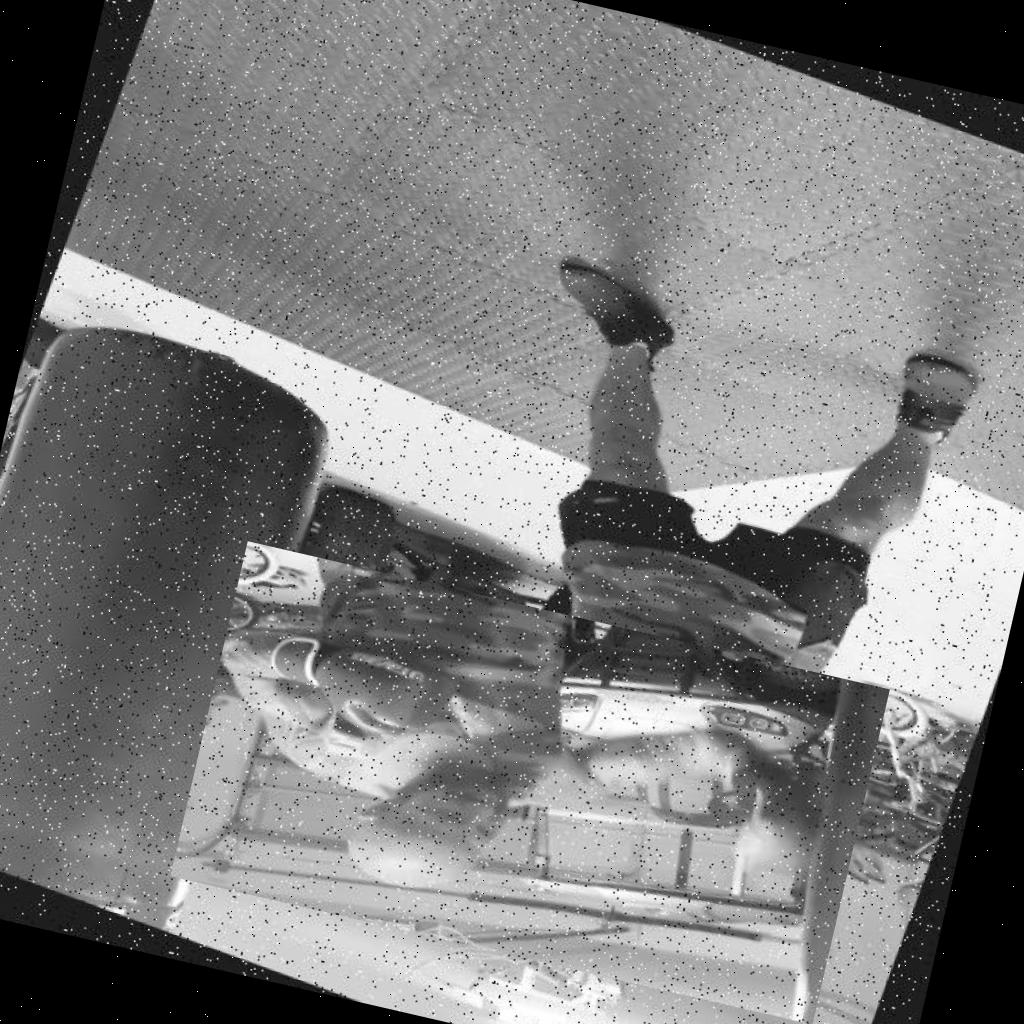bag: (0, 291, 393, 954)
uppercut: (170, 541, 889, 1024)
